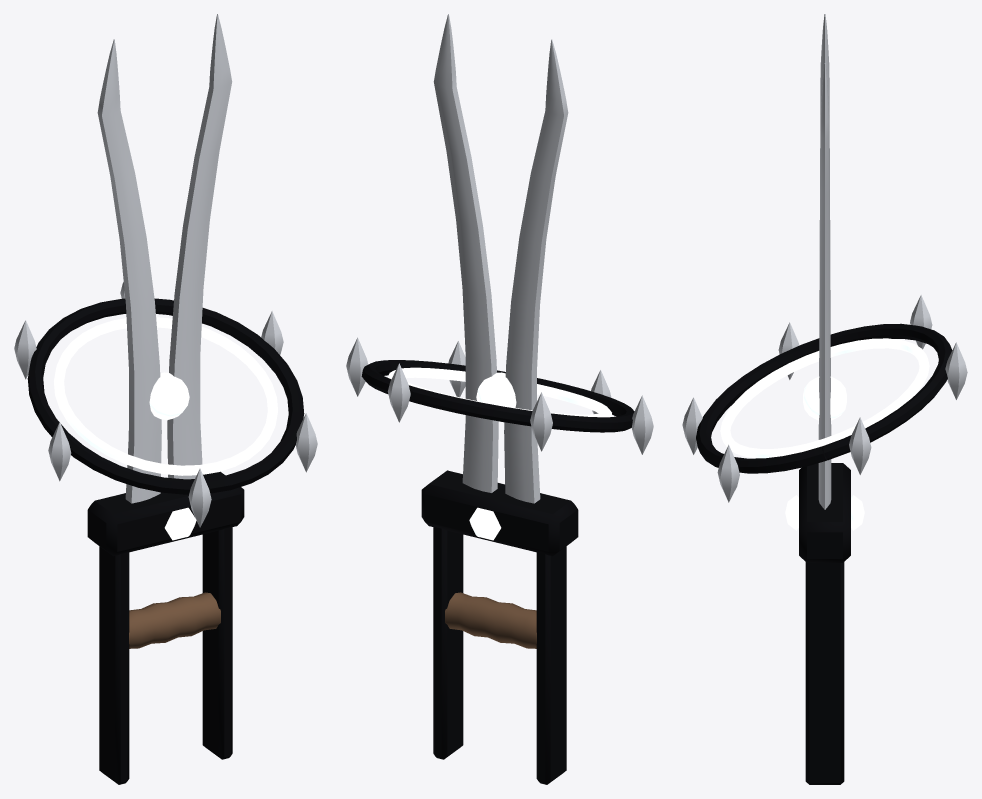
File: esc_w_shadowblade_claw_9.glb
The picture shows the model from 3 angles, left to right: view 1: azimuth 30°, elevation 25°; view 2: azimuth 150°, elevation 25°; view 3: azimuth 270°, elevation 25°; orthographic projection. The views are drawn at different scales.
Parts seen in each view (by area): view 1: esc_w_shadowblade_claw_9; view 2: esc_w_shadowblade_claw_9; view 3: esc_w_shadowblade_claw_9.
Part boxes in pixels (box(x1,y1,x2,y2)): esc_w_shadowblade_claw_9: box(14, 14, 317, 784); esc_w_shadowblade_claw_9: box(346, 14, 653, 784); esc_w_shadowblade_claw_9: box(682, 14, 967, 784).
Bounding box in the file's own units: 0.2338 × 0.6149 × 0.2207.
